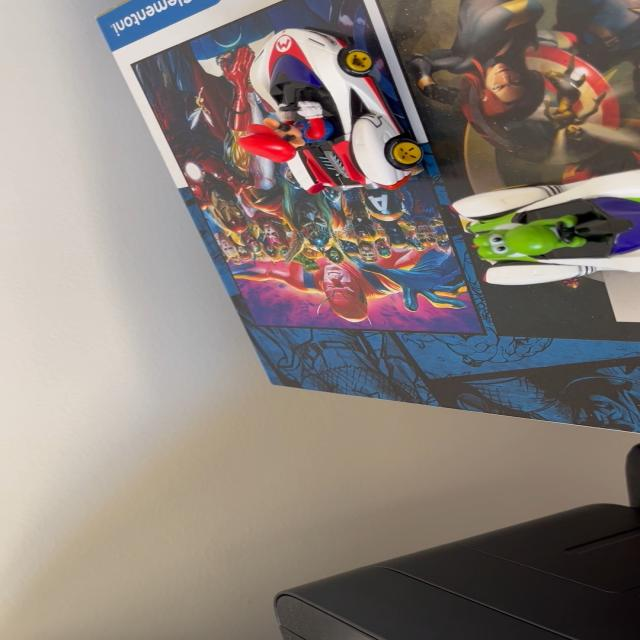mario: (222, 19, 440, 203)
yoshi: (441, 162, 638, 294)
